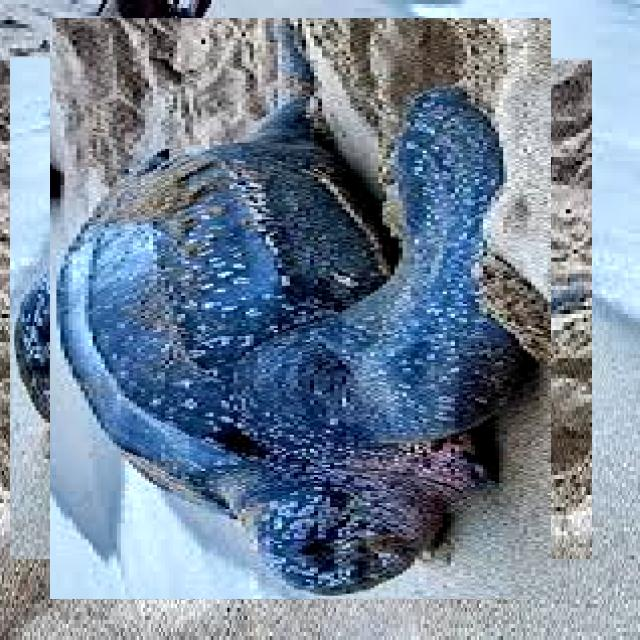Sea turtle: (30, 38, 572, 579)
